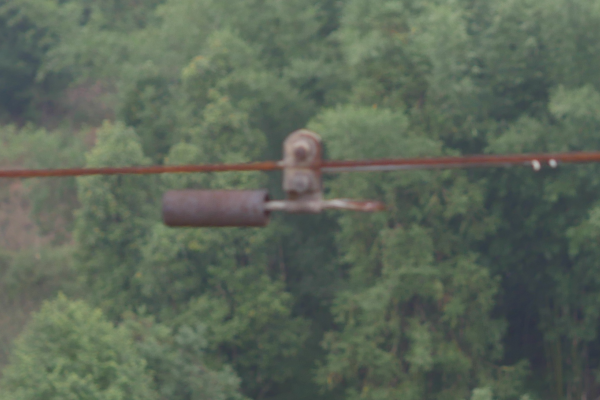damper_defect: (154, 125, 396, 229)
